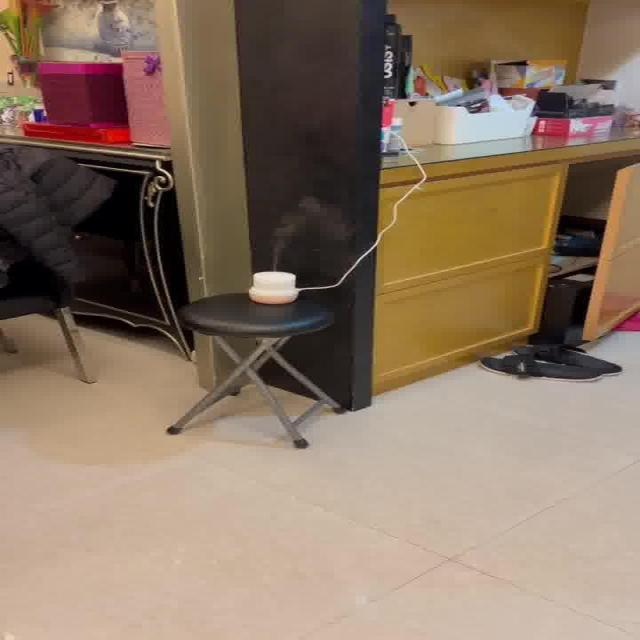fire: (263, 206, 349, 260)
